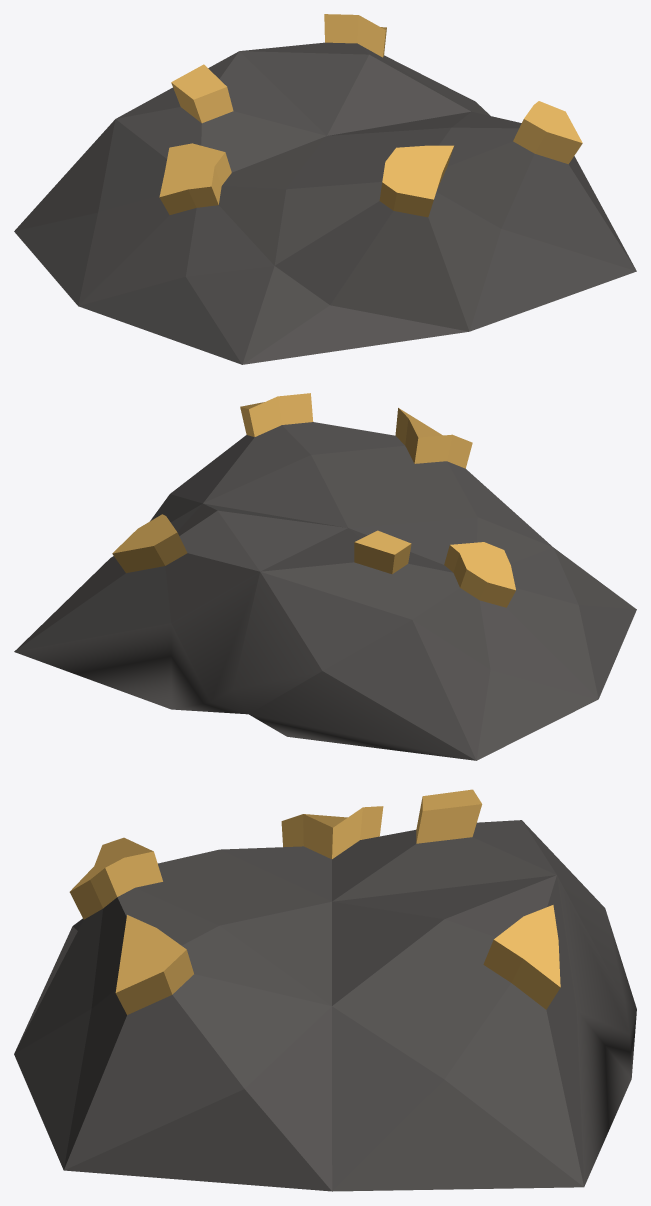
The model's file is goldmine5.fbx.
3 renders of one model, top to bottom at view 1: azimuth 30°, elevation 25°; view 2: azimuth 150°, elevation 25°; view 3: azimuth 270°, elevation 25°, orthographic. The views are drawn at different scales.
Visible parts, largest first — view 1: goldmine5; view 2: goldmine5; view 3: goldmine5.
Boxes of the visible parts, x1,y1,x2,y2 form: goldmine5: (14, 14, 636, 364); goldmine5: (14, 393, 636, 760); goldmine5: (14, 789, 636, 1191).
Size of the model in its own units: 5.19 by 1.59 by 4.47.
